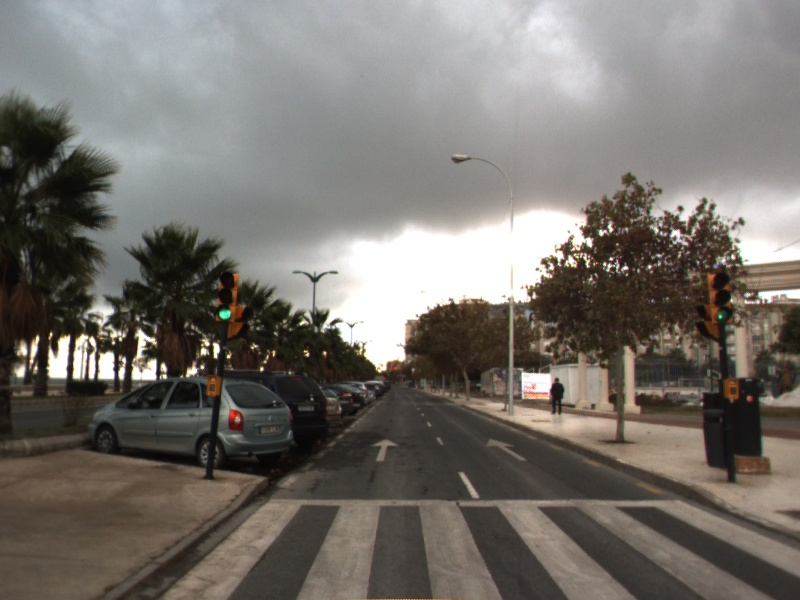STRAIGHT: (484, 437, 530, 463), (369, 437, 402, 462)
